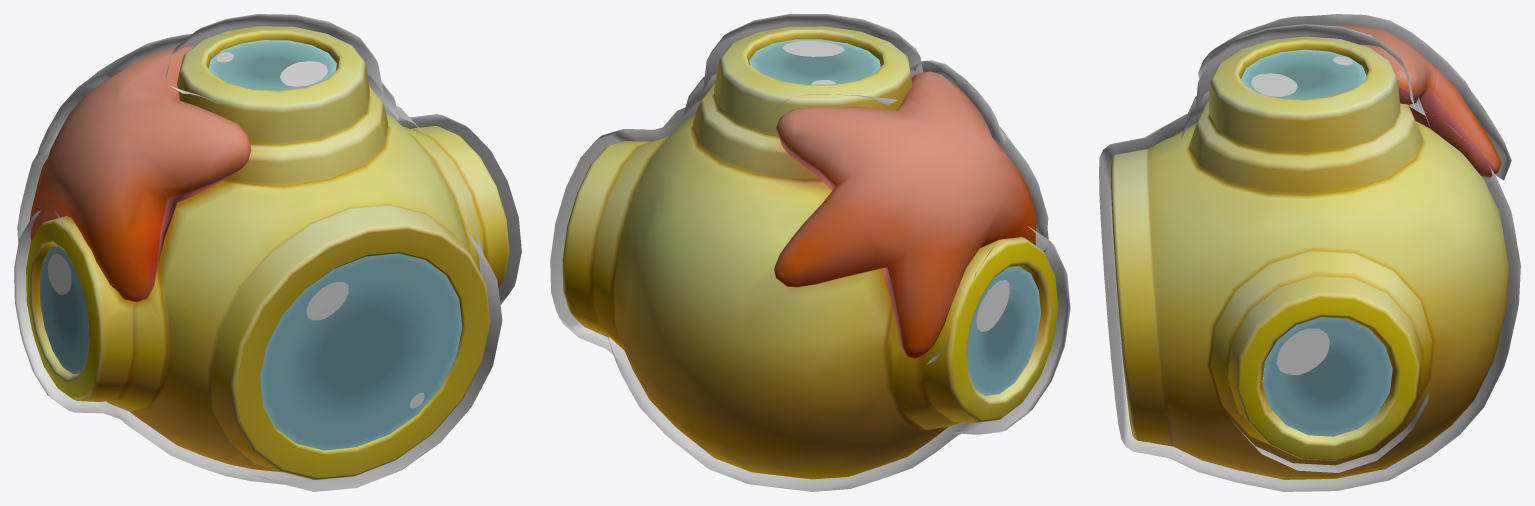
The model's file is pickup_HelmetDiverHank_outline_MESH.glb.
3 views of the same model, side by side, from view 1: azimuth 30°, elevation 25°; view 2: azimuth 150°, elevation 25°; view 3: azimuth 270°, elevation 25° (orthographic). The views are drawn at different scales.
Parts seen in each view (by area): view 1: pickup_HelmetDiverHank_outline; view 2: pickup_HelmetDiverHank_outline; view 3: pickup_HelmetDiverHank_outline.
Part boxes in pixels (x1,y1,x2,y2): pickup_HelmetDiverHank_outline: [14, 14, 521, 491]; pickup_HelmetDiverHank_outline: [550, 14, 1070, 491]; pickup_HelmetDiverHank_outline: [1099, 14, 1520, 491].
Bounding box in the file's own units: 0.6446 × 0.5876 × 0.547.
